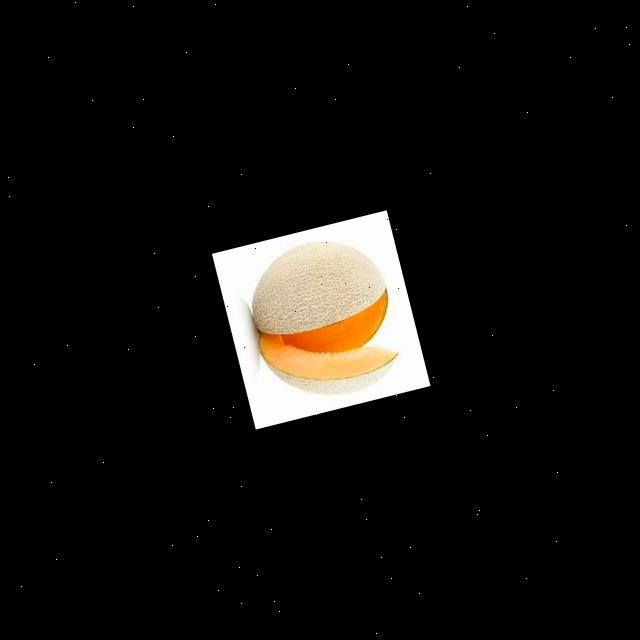Hami Melon: (238, 228, 406, 412)
